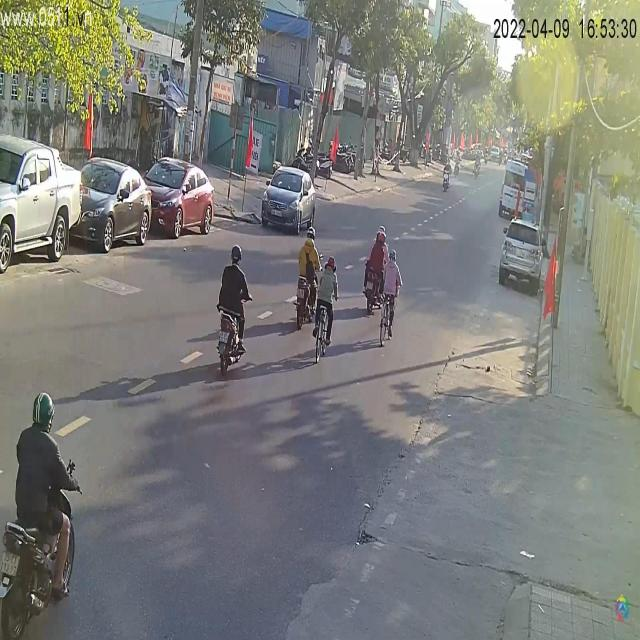car: (1, 135, 84, 276), (73, 158, 155, 254), (140, 157, 217, 241), (260, 168, 315, 235), (500, 217, 544, 297), (499, 159, 540, 225)
motorcycle: (1, 500, 76, 640), (215, 286, 249, 376), (292, 254, 321, 336), (442, 165, 451, 189)
